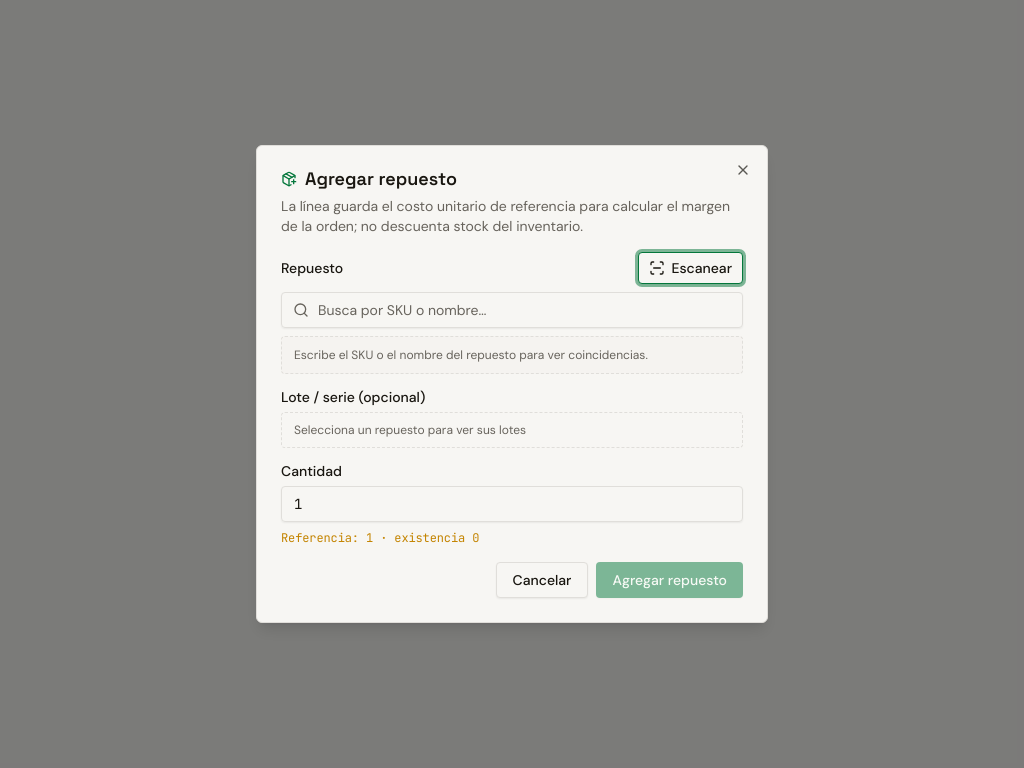
AddPartDialog › rejects a non-positive quantity with a Spanish error and does not save
Type "Balata de freno" into the search field with test id "order_detail.add_part.search_input" at [512, 310], box top-left (281, 292), bottom-right (743, 328)
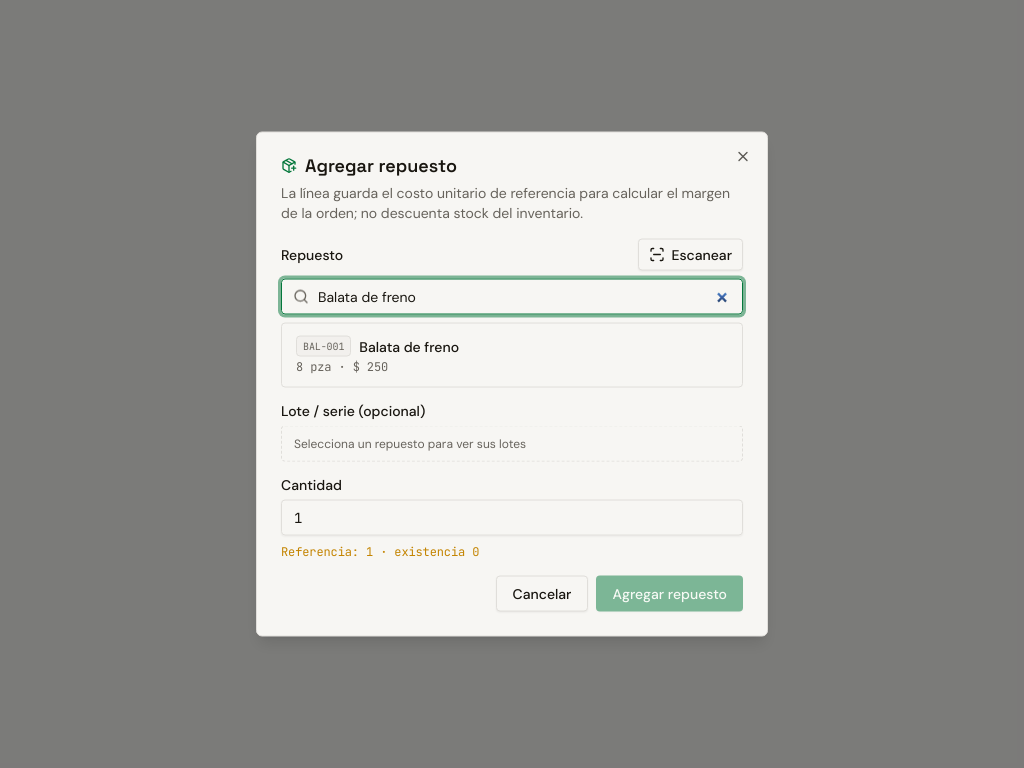
Click the text "Balata de freno" at [409, 346], box top-left (359, 336), bottom-right (459, 356)
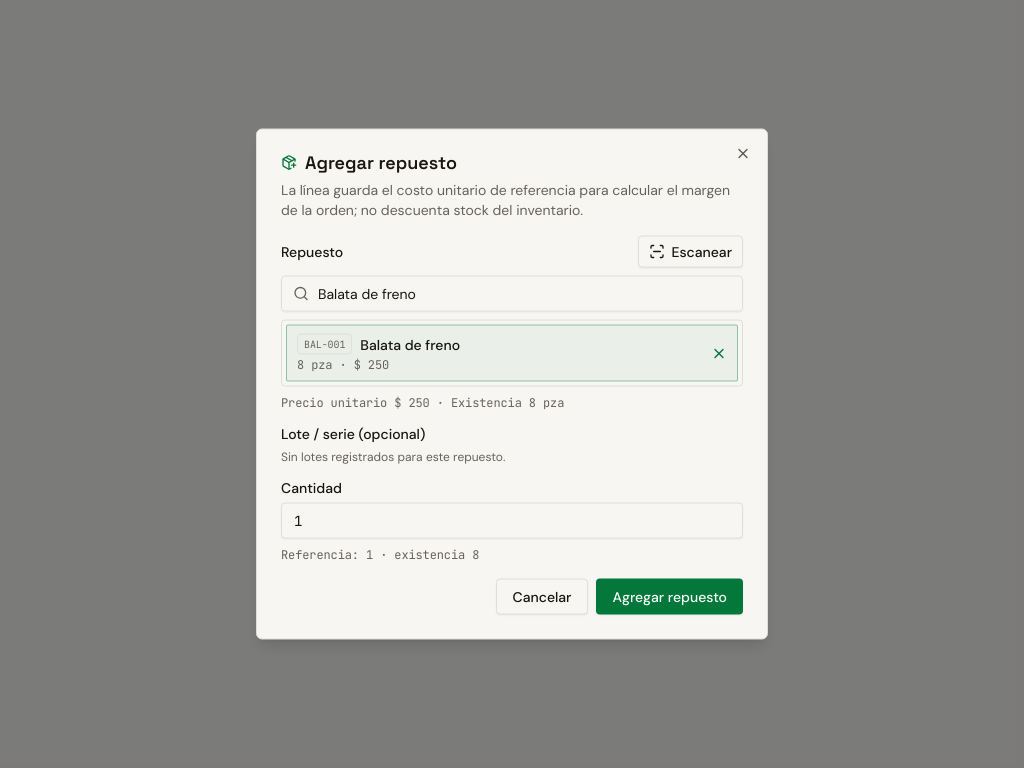
Clear the number field with test id "order_detail.add_part.quantity_input" at [512, 520], box top-left (281, 502), bottom-right (743, 538)
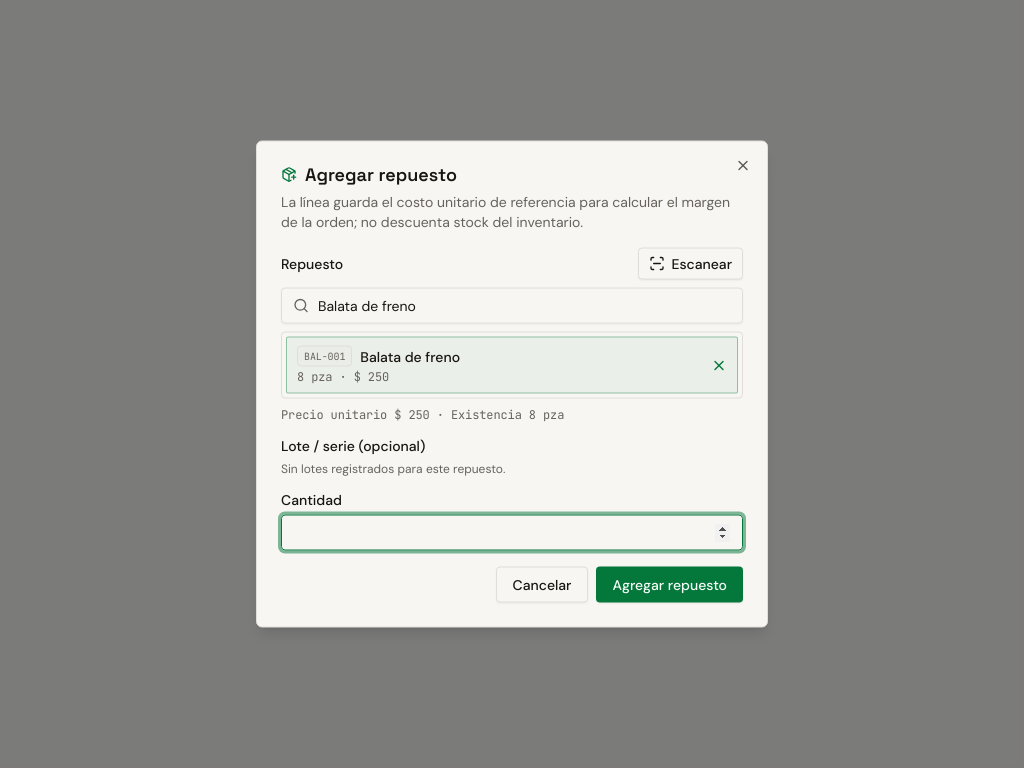
Type "0" into the number field with test id "order_detail.add_part.quantity_input" at [512, 532], box top-left (281, 514), bottom-right (743, 550)
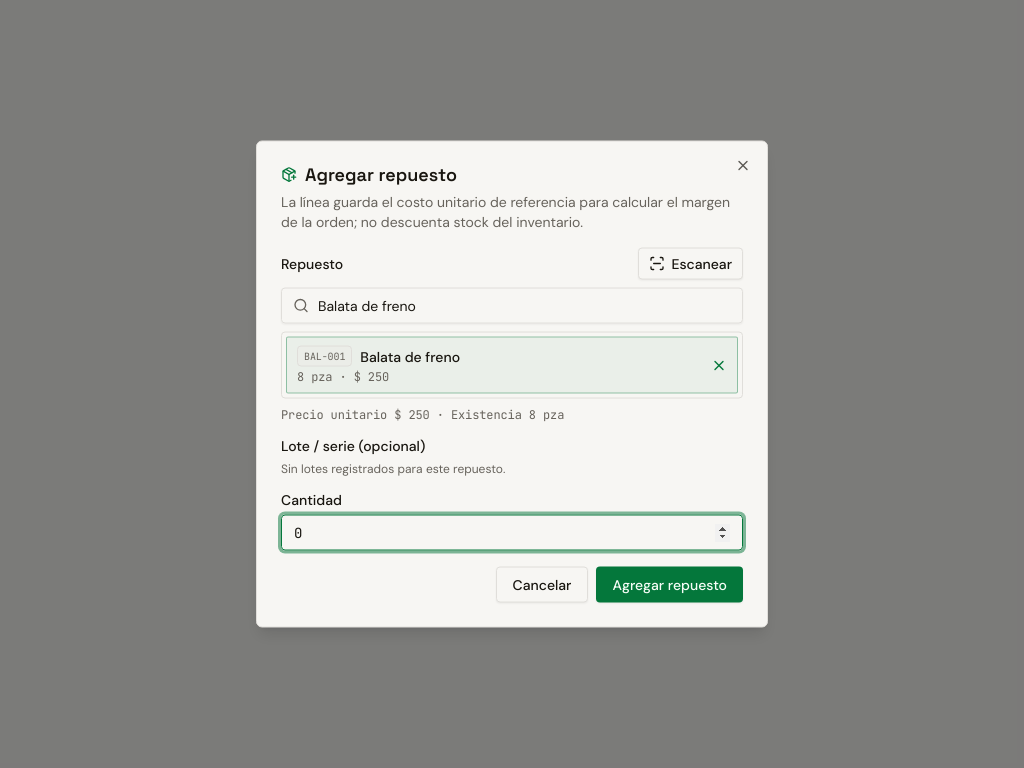
Click the button with test id "order_detail.add_part.submit_button" at [670, 584], box top-left (596, 566), bottom-right (743, 602)
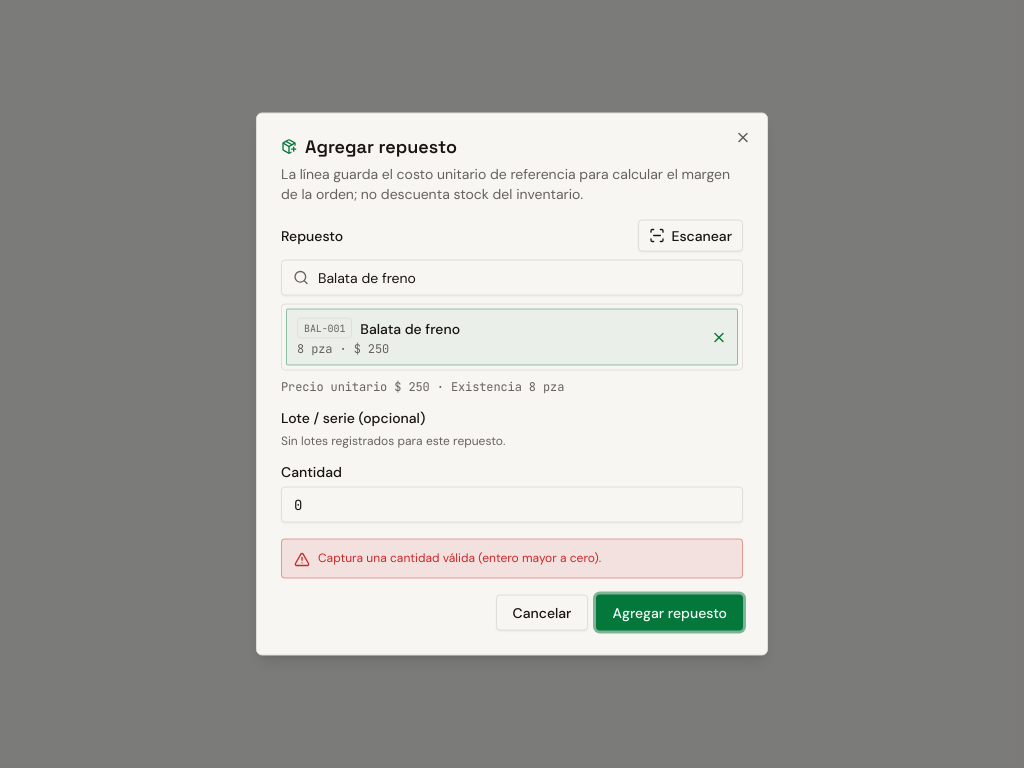
Check: the element with test id "order_detail.add_part.error_state" reads "Captura una cantidad válida (entero mayor a cero).", box top-left (318, 550), bottom-right (601, 566)
